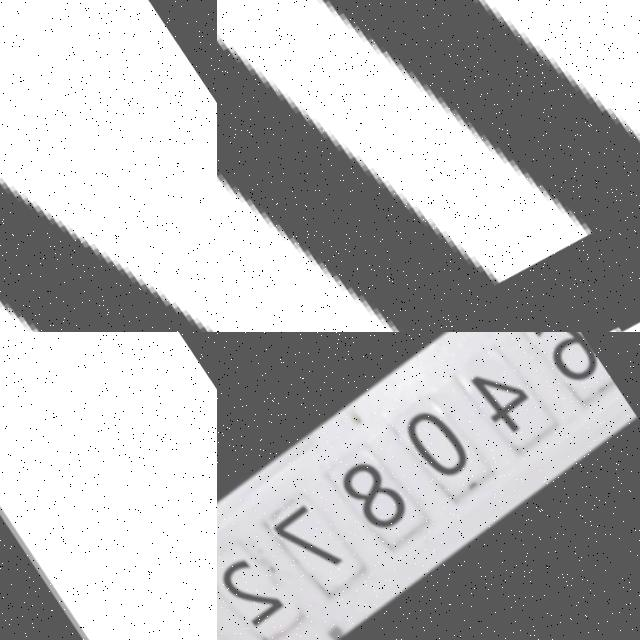0: (375, 366, 493, 495)
2: (217, 521, 298, 640)
4: (440, 332, 556, 447)
6: (508, 332, 610, 393)
7: (245, 470, 362, 596)
8: (310, 423, 426, 546)
L: (0, 332, 179, 640)
U: (217, 0, 640, 332)
X: (0, 0, 217, 332)
